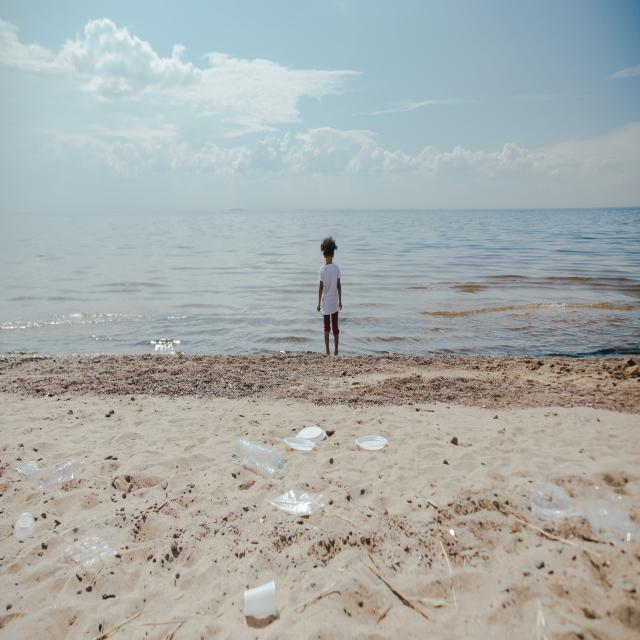plastic: (537, 490, 622, 535), (240, 433, 282, 480), (241, 580, 278, 616), (276, 494, 314, 518), (292, 429, 326, 449)
